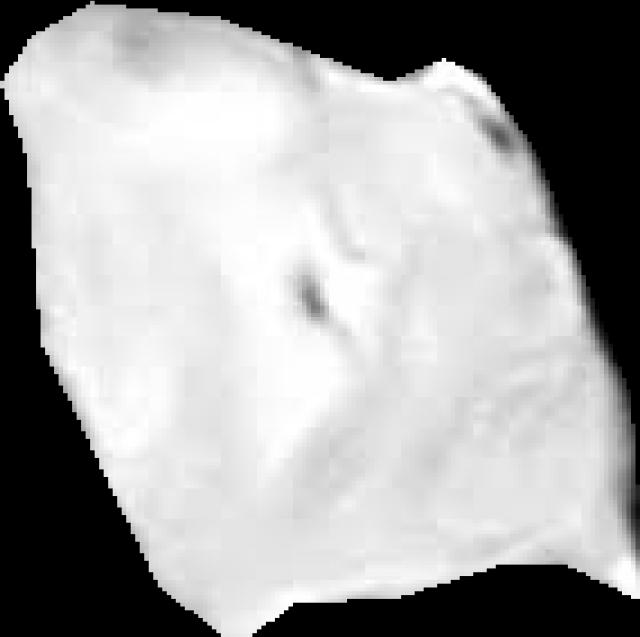tumor_moderate_chance: (0, 1, 640, 637)
